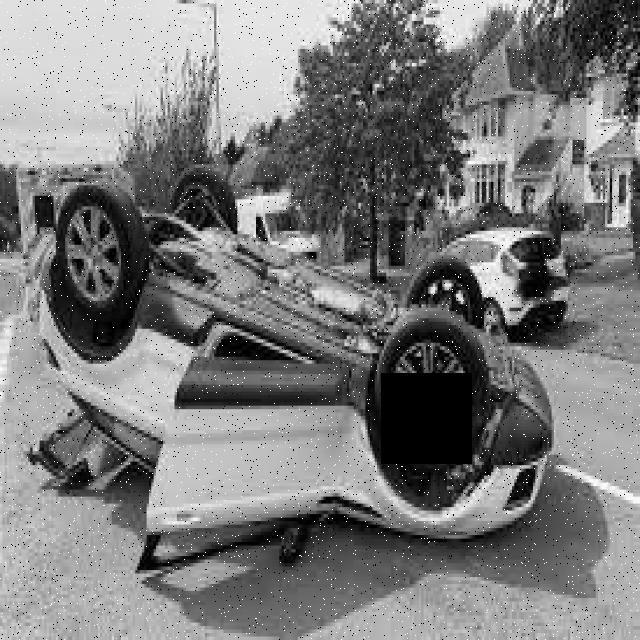accident: (29, 156, 558, 579)
vehicle: (435, 225, 569, 341), (238, 191, 322, 265)
